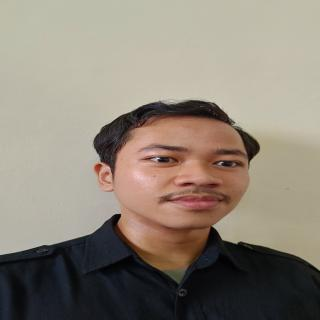Takut: (99, 113, 257, 235)
